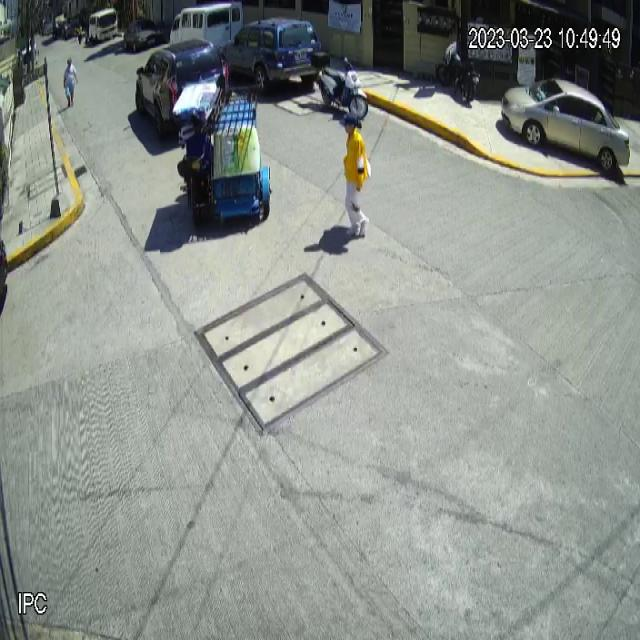Car: (500, 76, 630, 173)
Motorcycle: (311, 51, 368, 120)
Tricycle: (172, 77, 272, 223)
